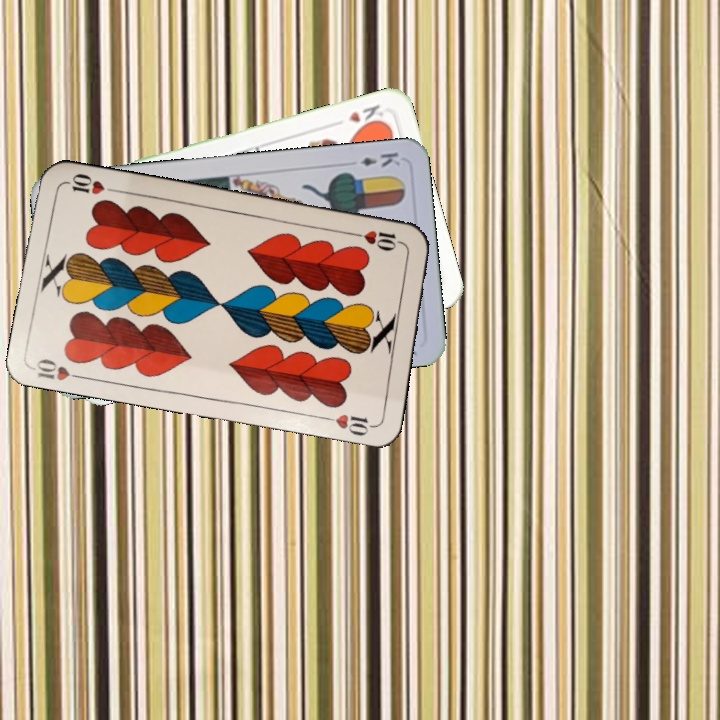EK: (356, 148, 403, 170)
H10: (30, 355, 89, 383), (348, 226, 407, 253)
HK: (344, 100, 387, 132)
